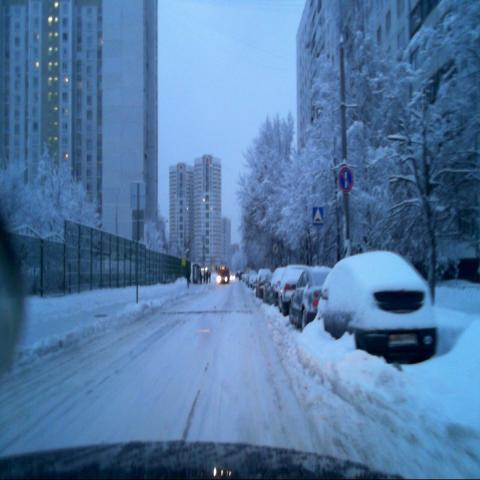3_29: (339, 165, 353, 192)
5_20: (312, 206, 324, 226)
